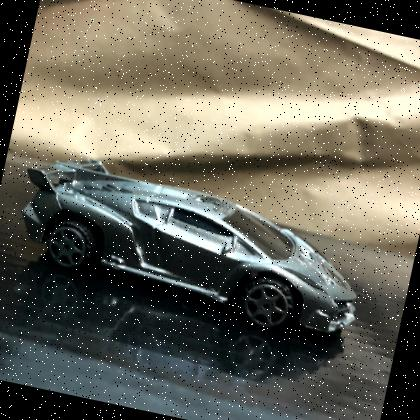Car: (22, 158, 357, 336)
